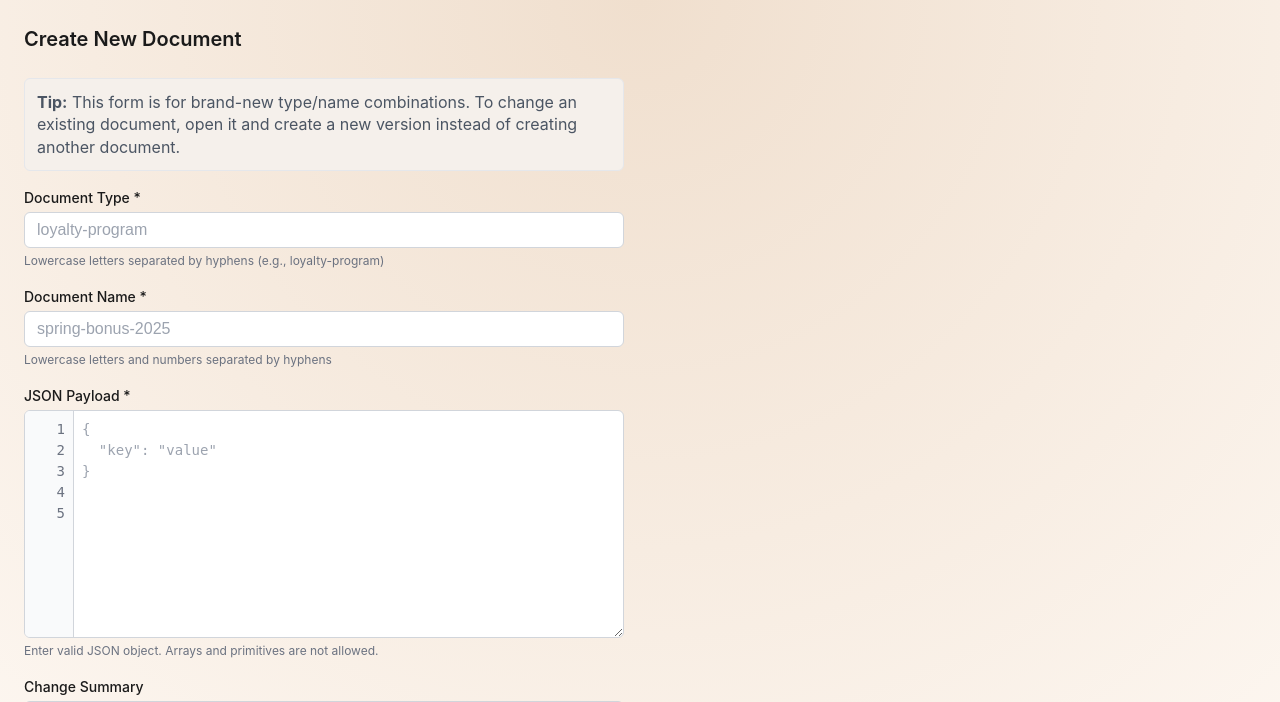
Test: CreateDocumentForm › field validation - document type (kebab-case) › shows error for invalid type format - underscores
Type "invalid_type" into the field labelled "Document Type *".
click(324, 230); type("invalid_type")  # box [24,212,624,248]
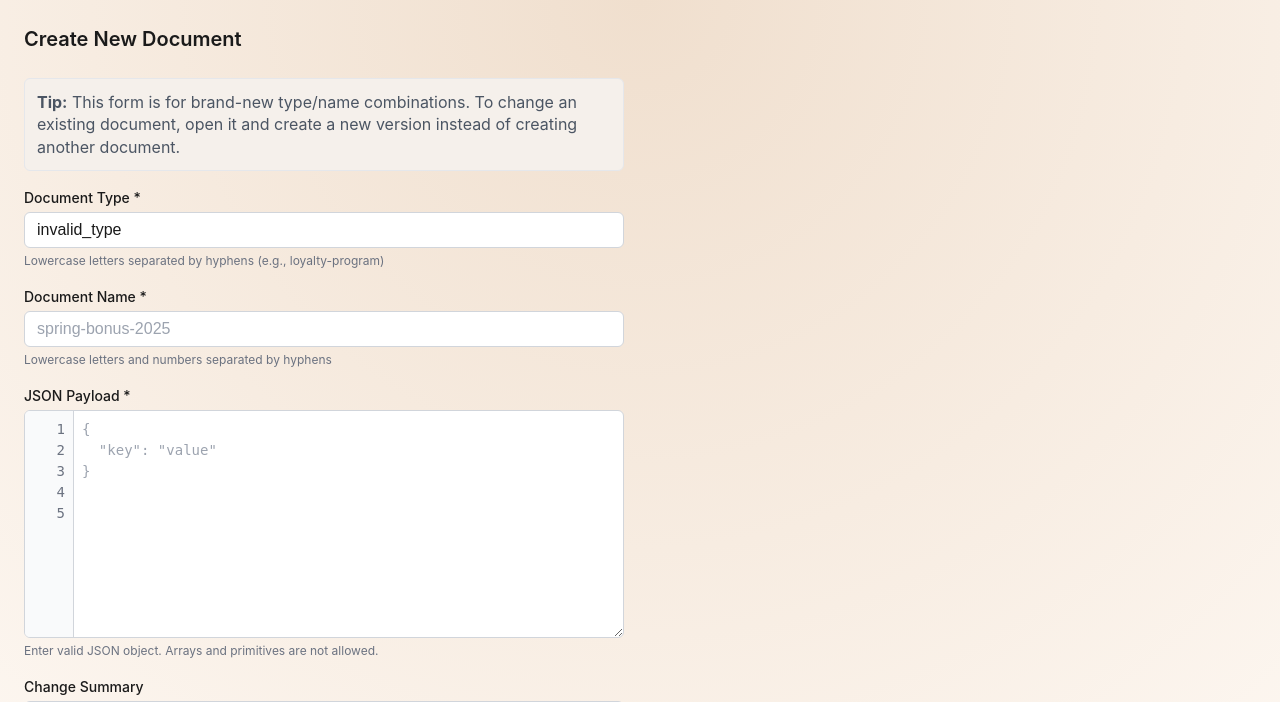
Leave the field labelled "Document Type *", box [24,212,624,248]
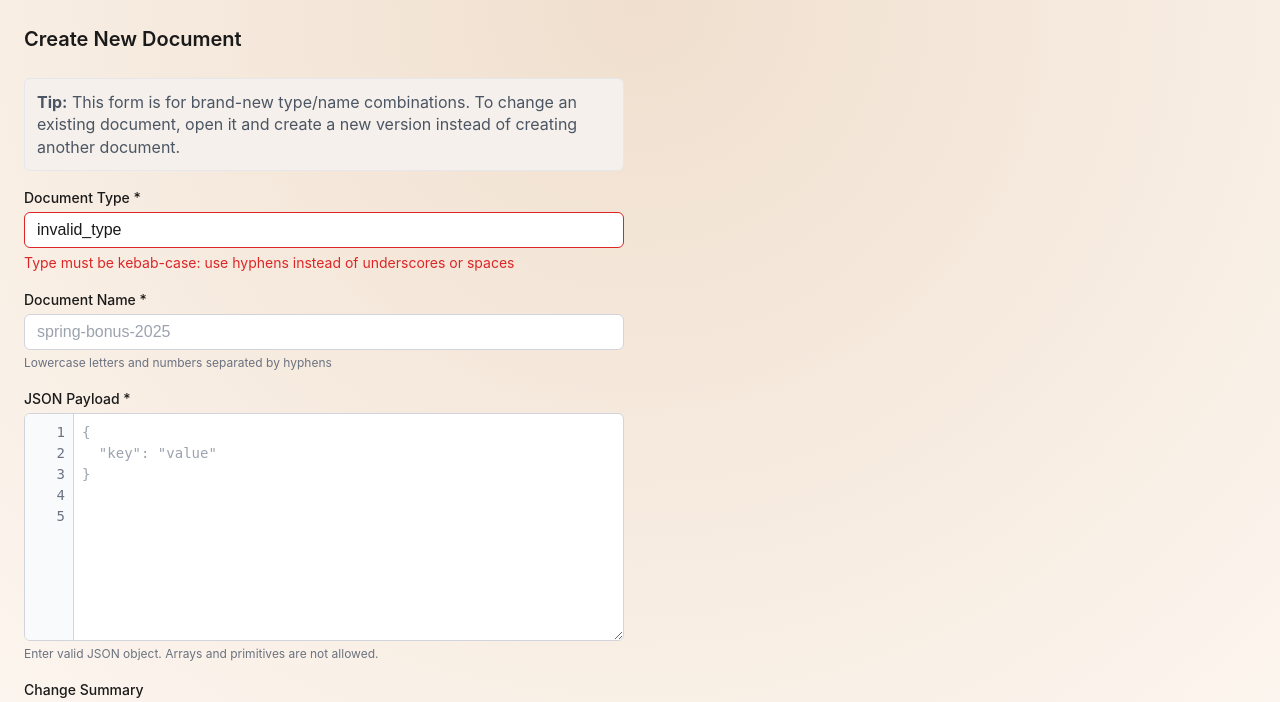
expect the text "Type must be kebab-case: use hyphens instead of underscores or spaces" is shown: met, box [24,254,514,271]
